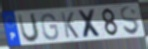8: (101, 7, 120, 38)
G: (39, 12, 60, 42)
K: (60, 12, 81, 40)
S: (119, 5, 141, 36)
U: (16, 11, 41, 44)
X: (76, 8, 104, 39)
